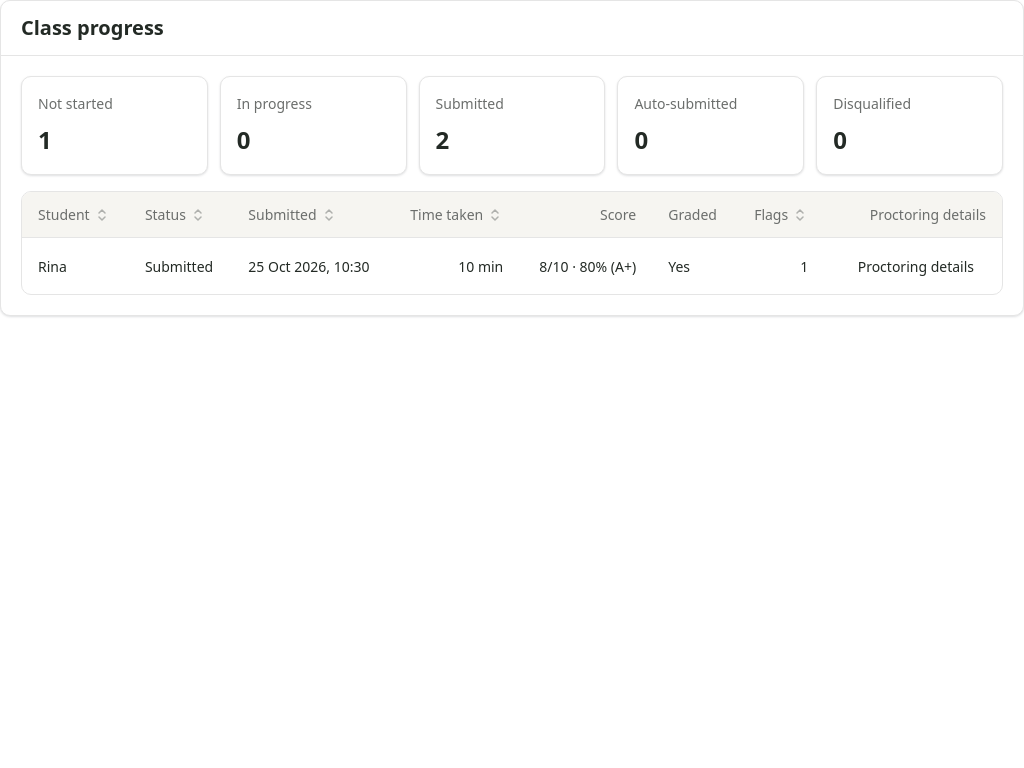
Test: class progress › shows counts and a student's proctoring details
Expected: the text "8/10 · 80% (A+)" is shown, [519, 238, 652, 294]
Click the button "Proctoring details".
click(916, 266)  # box [846, 250, 986, 282]
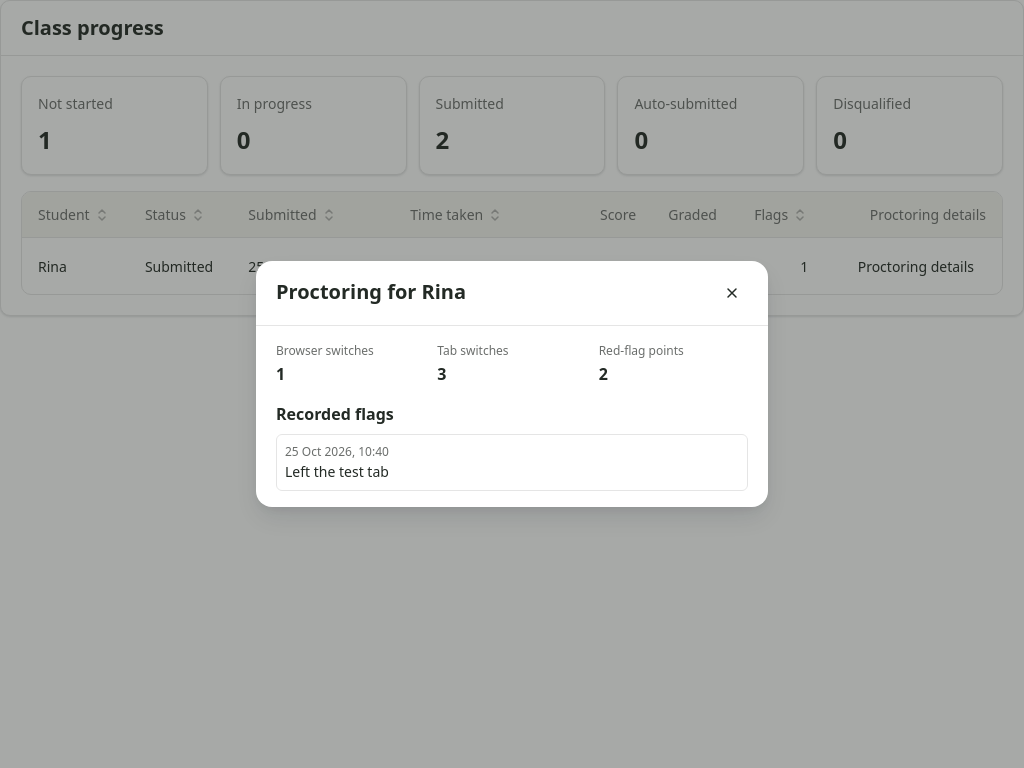
Expected: the text "Left the test tab" is shown, [285, 462, 389, 481]
